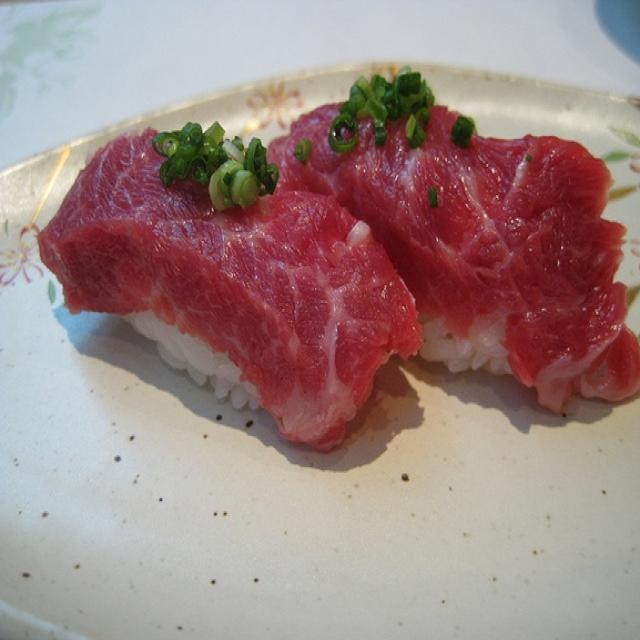刺身生食: (1, 31, 636, 631)
